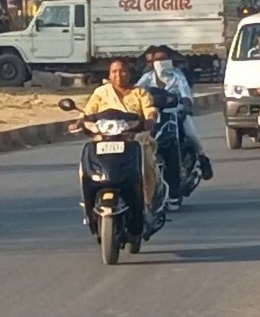BikeWithRider: (56, 53, 183, 268), (127, 43, 215, 211)
NoHelmet: (102, 54, 135, 92), (141, 43, 180, 74)
